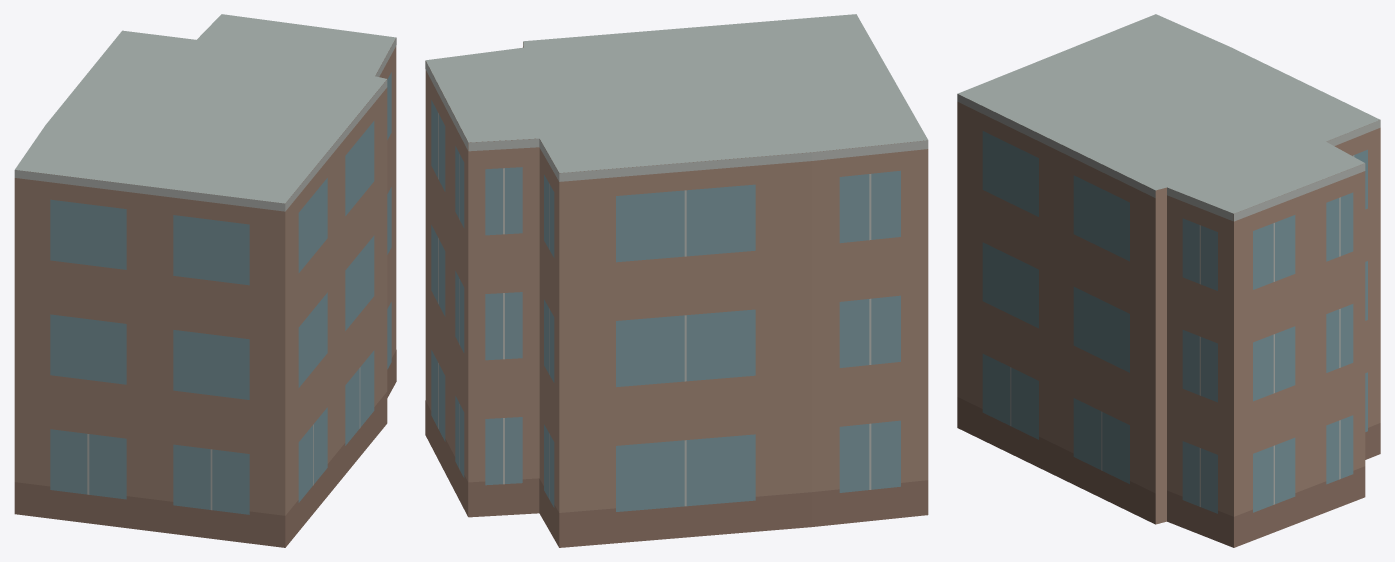
Rendered from survey-upis-32638921.glb.
3 renders of one model, left to right at view 1: azimuth 30°, elevation 25°; view 2: azimuth 150°, elevation 25°; view 3: azimuth 270°, elevation 25°, orthographic. The views are drawn at different scales.
Visible parts, largest first — view 1: survey-upis-32638921.tmp; view 2: survey-upis-32638921.tmp; view 3: survey-upis-32638921.tmp.
Part boxes in pixels (x1,y1,x2,y2): survey-upis-32638921.tmp: (14, 14, 396, 547); survey-upis-32638921.tmp: (425, 14, 928, 547); survey-upis-32638921.tmp: (957, 14, 1380, 547).
Bounding box in the file's own units: 13.34 × 10.4 × 11.94.
